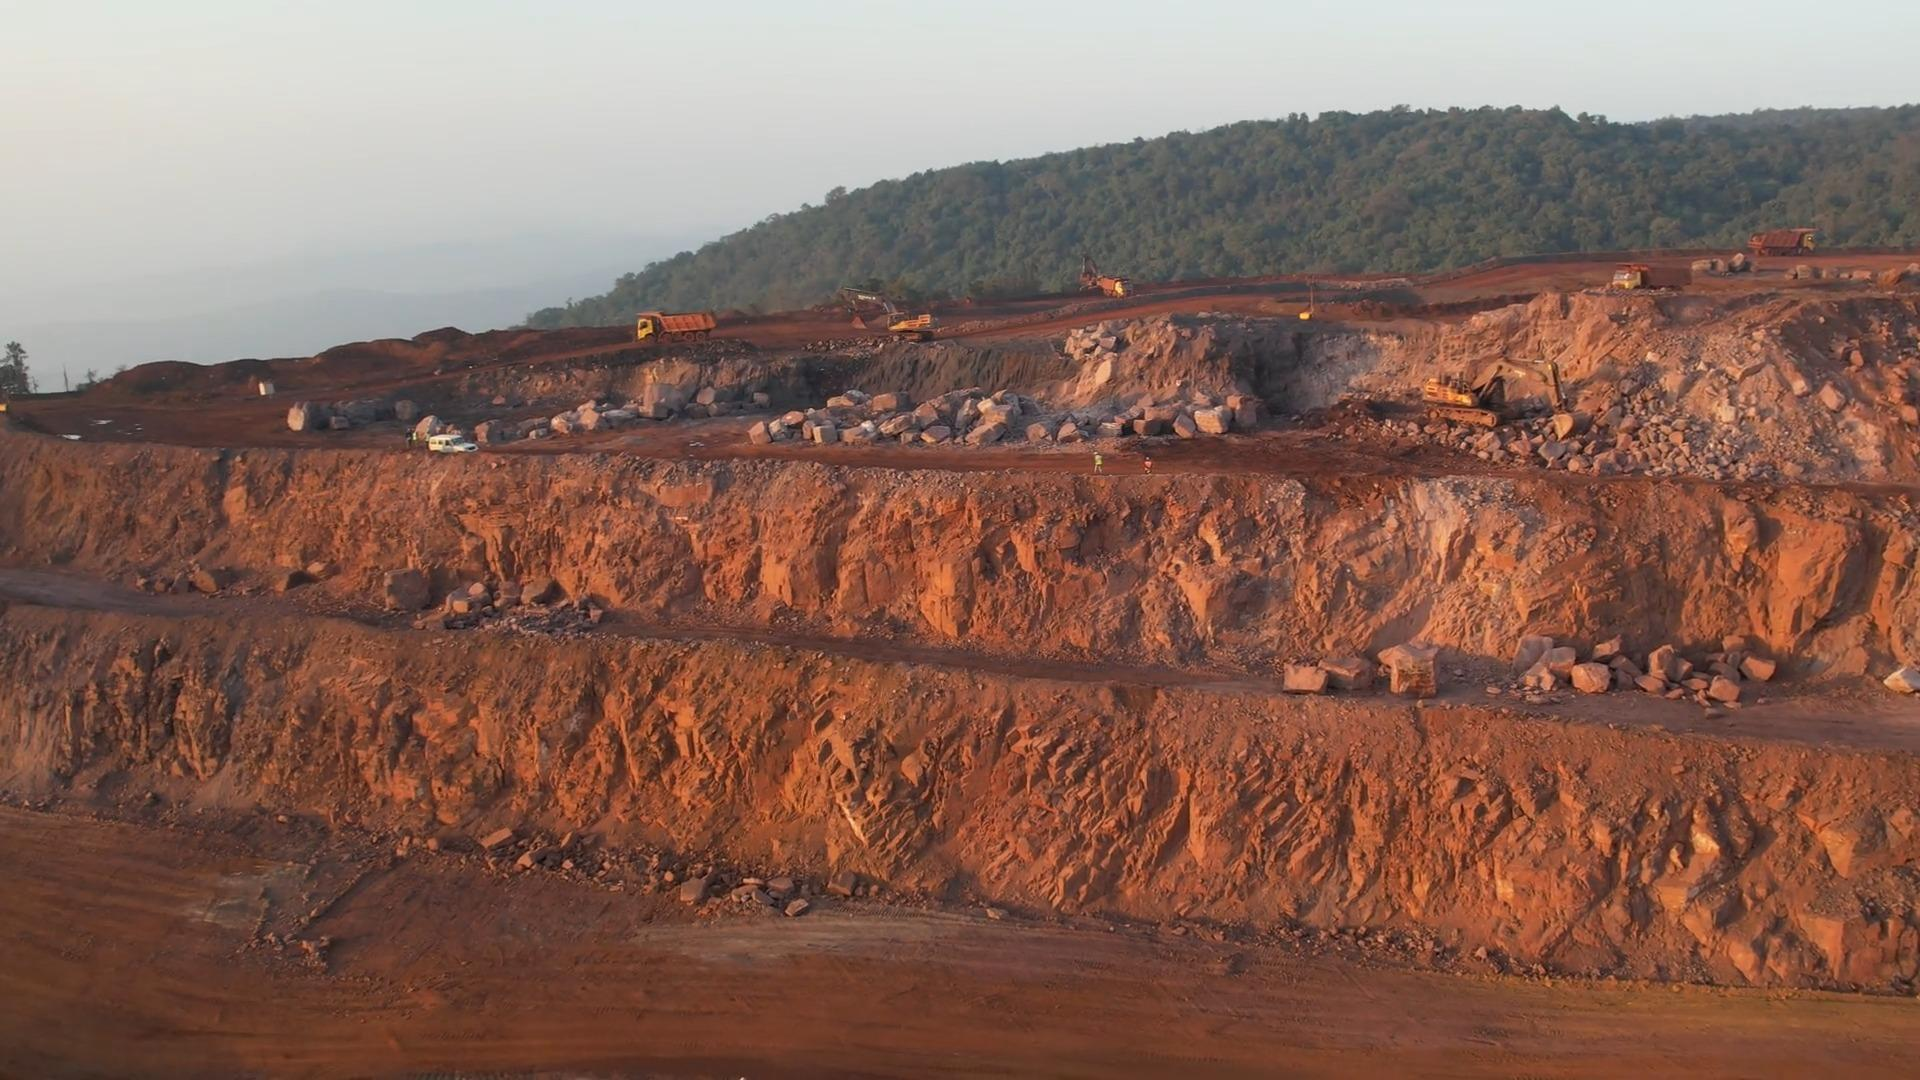excavator: (1422, 363, 1568, 426), (845, 286, 938, 338)
